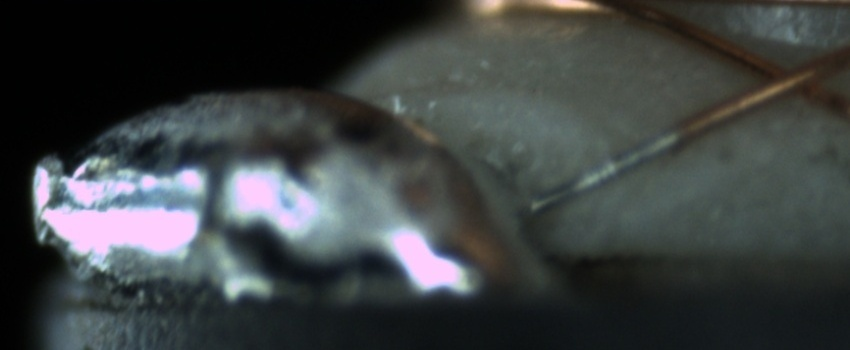CL: (731, 44, 832, 109)
TS: (526, 129, 683, 215)
